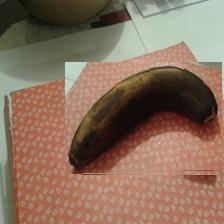Banana Rotten: (66, 63, 224, 176)
